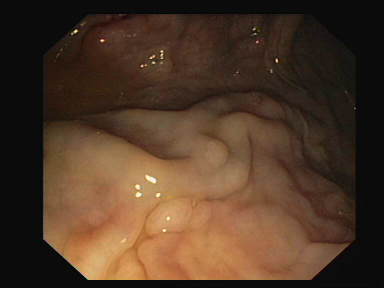polyp: (146, 198, 189, 236), (79, 22, 122, 57), (196, 135, 232, 170), (136, 235, 159, 263), (192, 197, 216, 222), (117, 250, 143, 271)
